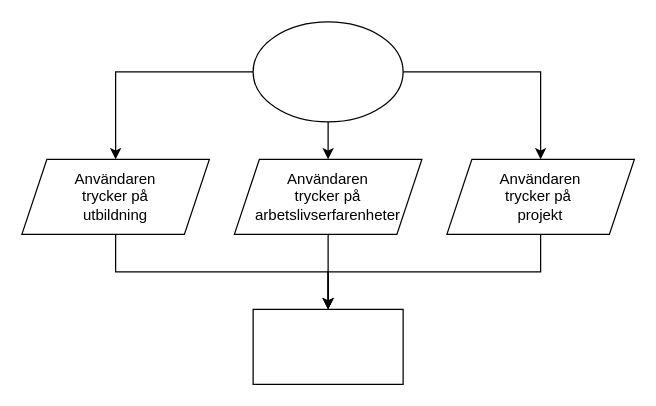
The diagram is 656 pixels wide and 406 high, and some of its shapes have lost their labels. The box of each missing label's shape, as (x1, y1, x2, y2) in pixels:
Användaren går in på sidan: (252, 21, 403, 122)
Hämta innehåll från REST endpoint: (252, 308, 403, 384)
